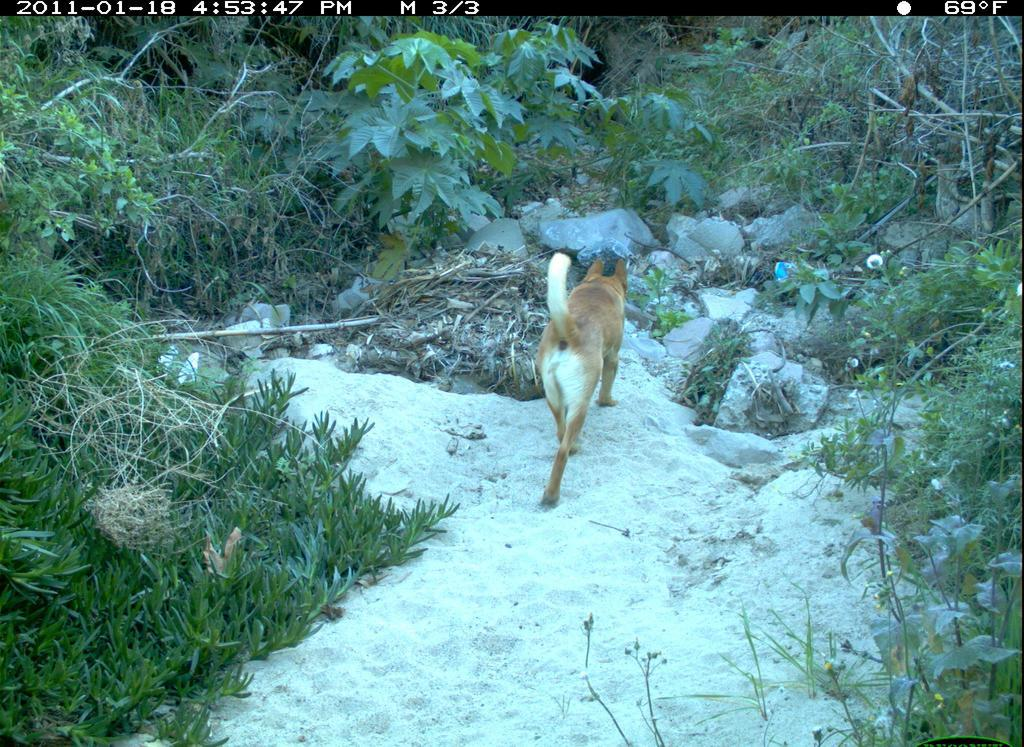dog: (515, 231, 657, 518)
